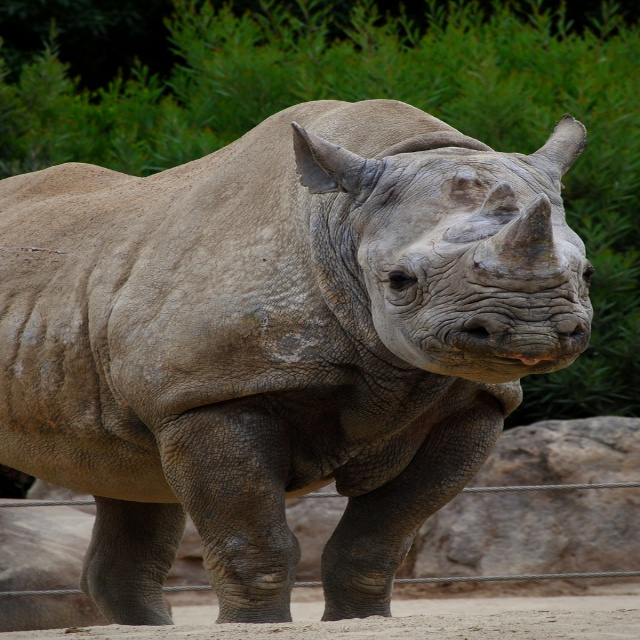Rhinoceros: (0, 90, 605, 630)
